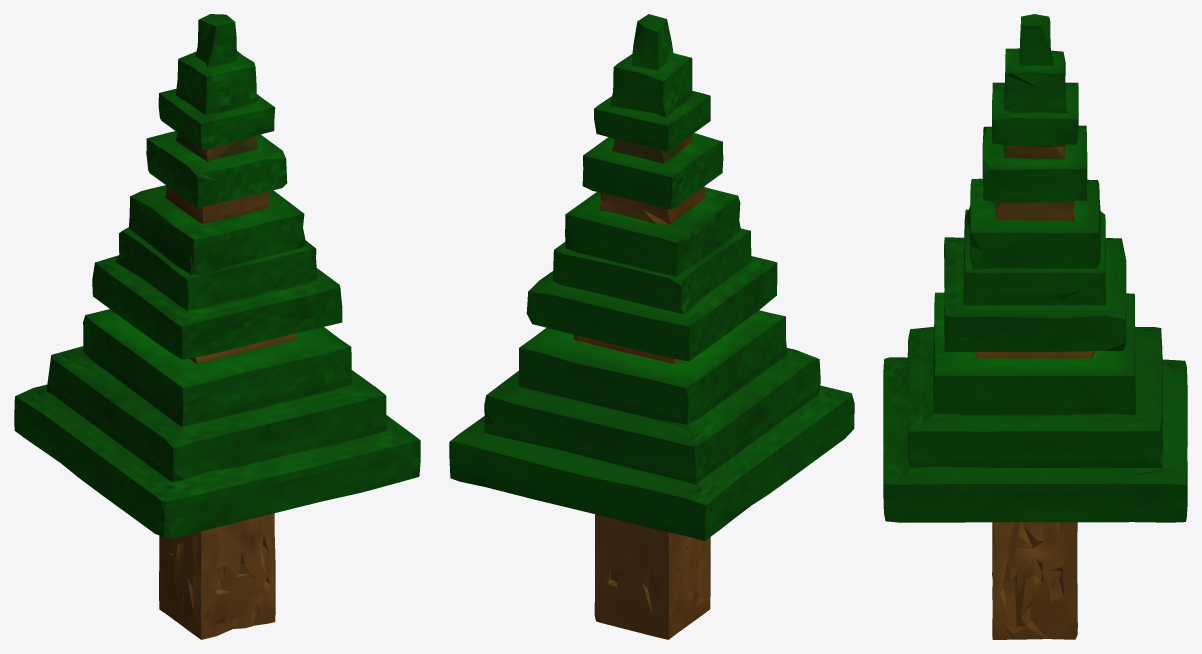
Rendered from tree.glb.
3 renders of one model, left to right at view 1: azimuth 30°, elevation 25°; view 2: azimuth 150°, elevation 25°; view 3: azimuth 270°, elevation 25°, orthographic.
Parts seen in each view (by area): view 1: Mesh; view 2: Mesh; view 3: Mesh.
Boxes of the visible parts, bbox=[...] form: Mesh: bbox=[14, 14, 420, 639]; Mesh: bbox=[449, 14, 854, 639]; Mesh: bbox=[883, 14, 1187, 639].
Bounding box in the file's own units: 0.8515 × 1.89 × 0.8652.
1 material, 1 textured.
